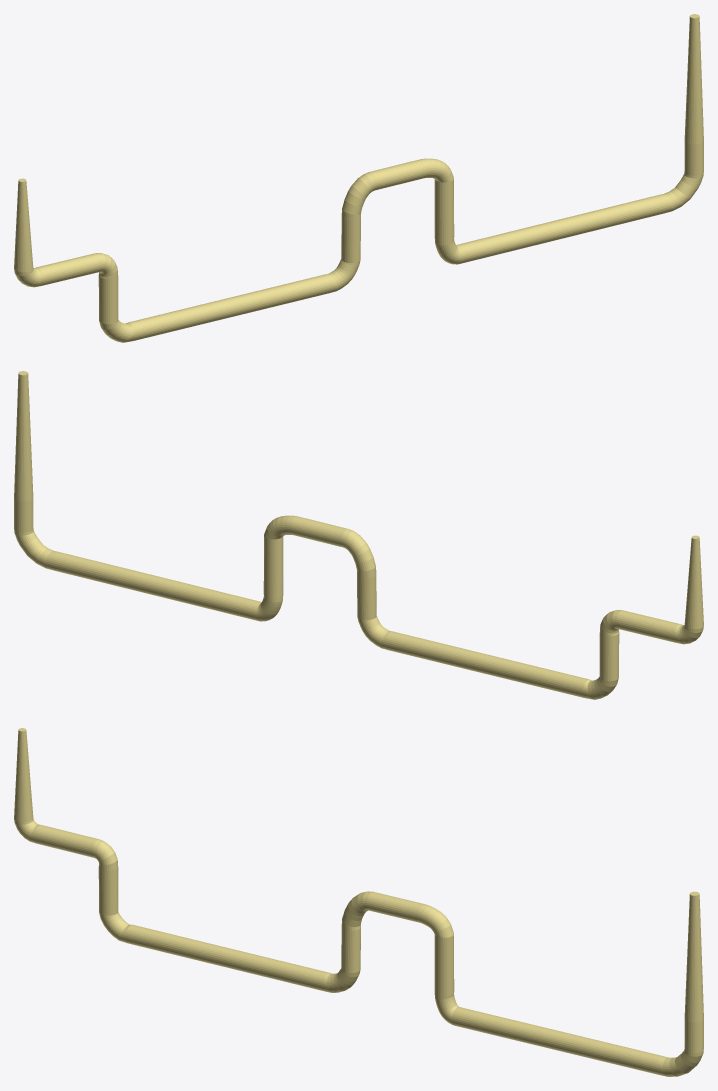
Rendered from Conector.fbx.
The picture shows the model from 3 angles, top to bottom: view 1: azimuth 30°, elevation 25°; view 2: azimuth 150°, elevation 25°; view 3: azimuth 330°, elevation 25°; orthographic projection.
Visible parts, largest first — view 1: Conector; view 2: Conector; view 3: Conector.
Boxes of the visible parts, bbox=[...] form: Conector: bbox=[14, 14, 703, 342]; Conector: bbox=[14, 371, 703, 699]; Conector: bbox=[14, 728, 703, 1076].
Size of the model in its own units: 808 by 213 by 19.77.
